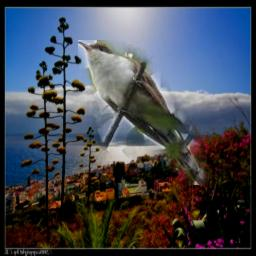Cuckoo: (78, 40, 208, 185)
